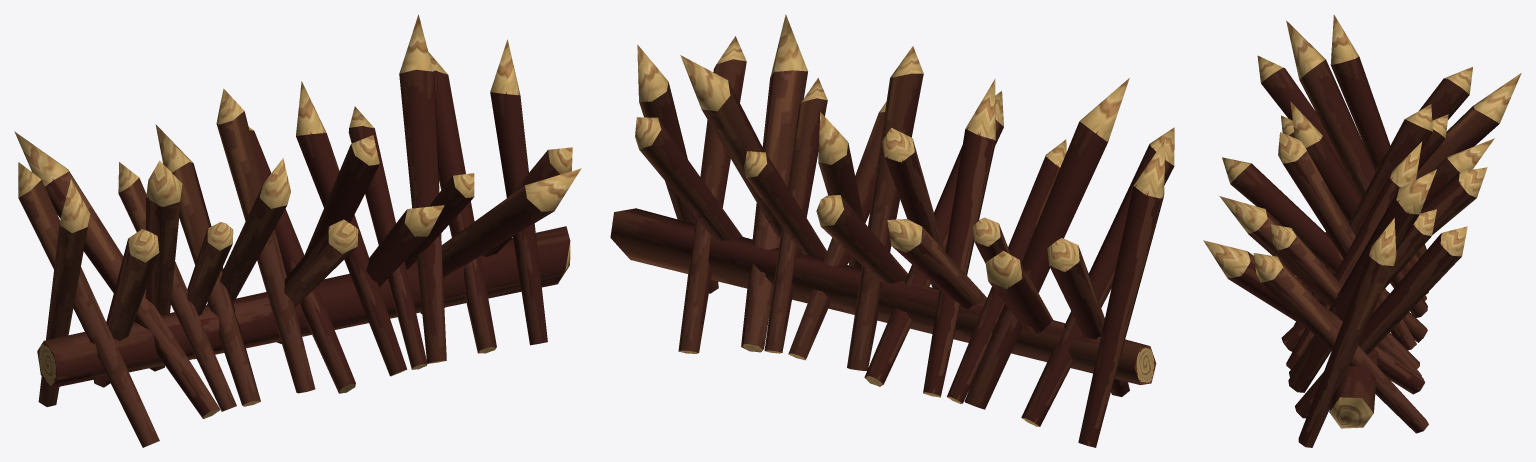
The model's file is SM_PROP_spikes_v02_01.glb.
3 renders of one model, left to right at view 1: azimuth 30°, elevation 25°; view 2: azimuth 150°, elevation 25°; view 3: azimuth 270°, elevation 25°, orthographic. The views are drawn at different scales.
Visible parts, largest first — view 1: SM_PROP_spikes_v02_01_EXPORT; view 2: SM_PROP_spikes_v02_01_EXPORT; view 3: SM_PROP_spikes_v02_01_EXPORT.
Part boxes in pixels (x1=…): SM_PROP_spikes_v02_01_EXPORT: x1=14, y1=14, x2=581, y2=447; SM_PROP_spikes_v02_01_EXPORT: x1=610, y1=14, x2=1174, y2=447; SM_PROP_spikes_v02_01_EXPORT: x1=1203, y1=14, x2=1521, y2=447.
Bounding box in the file's own units: 4.03 × 2.21 × 2.44.
Materials: 2 (2 with a texture image).
